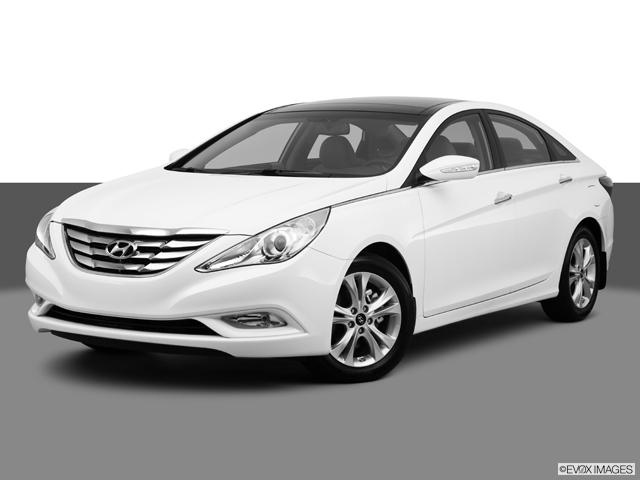car: (27, 95, 617, 380)
